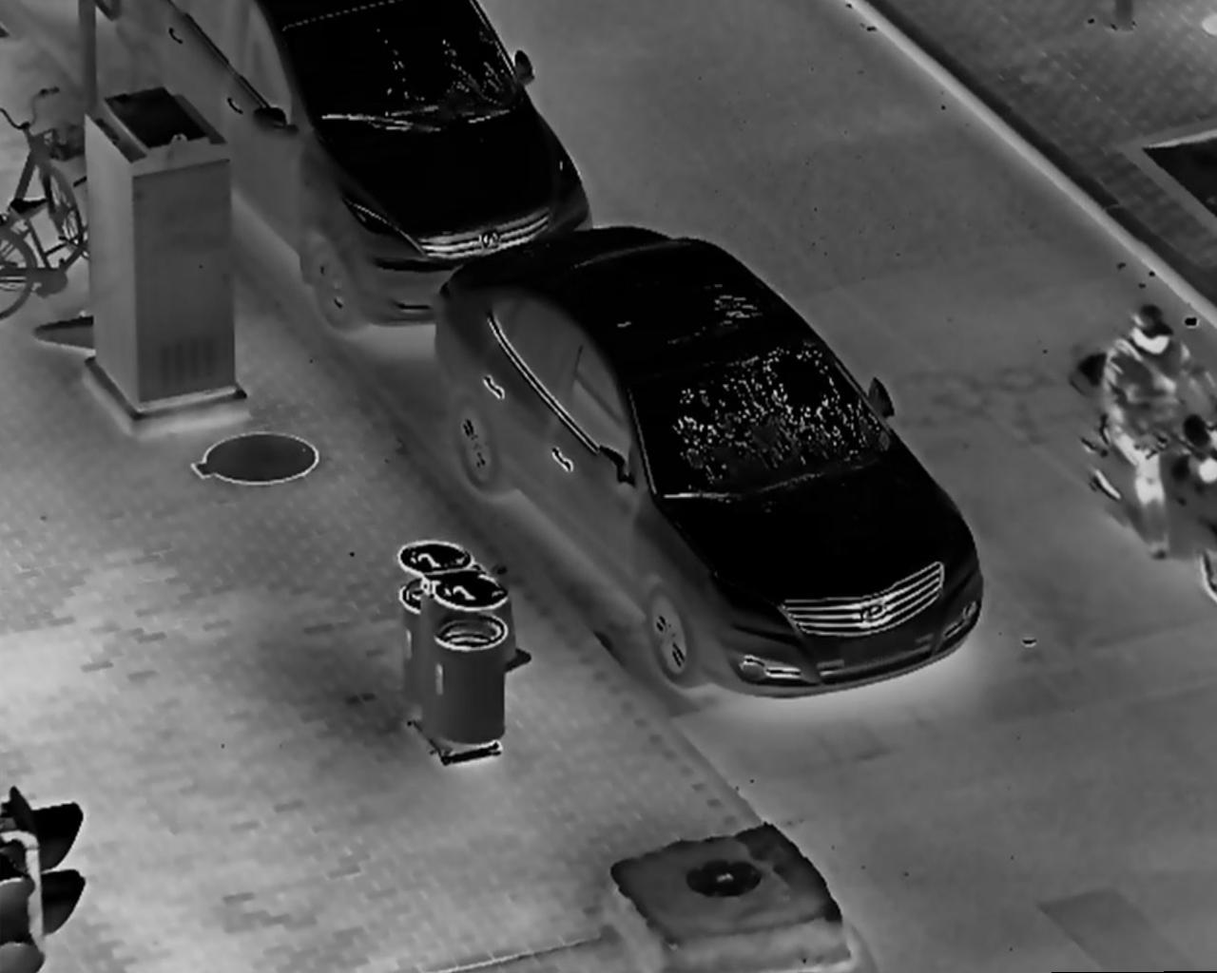person: (1091, 297, 1217, 550)
